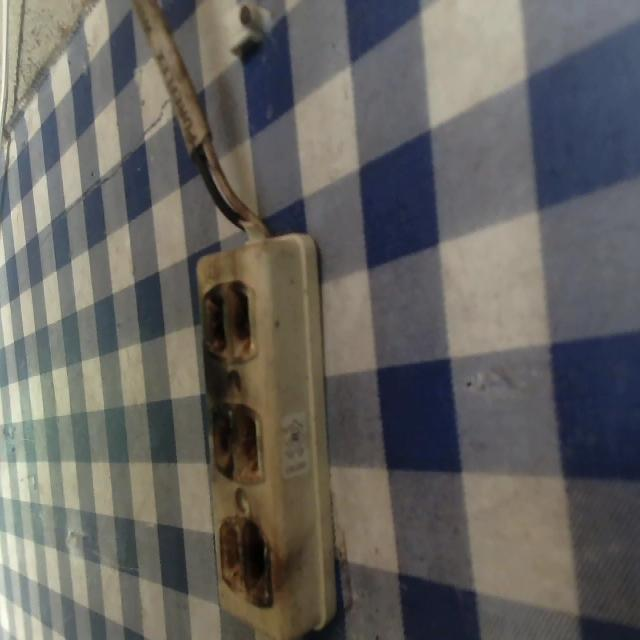-: (215, 514, 274, 610), (208, 399, 267, 488), (199, 278, 258, 362)
